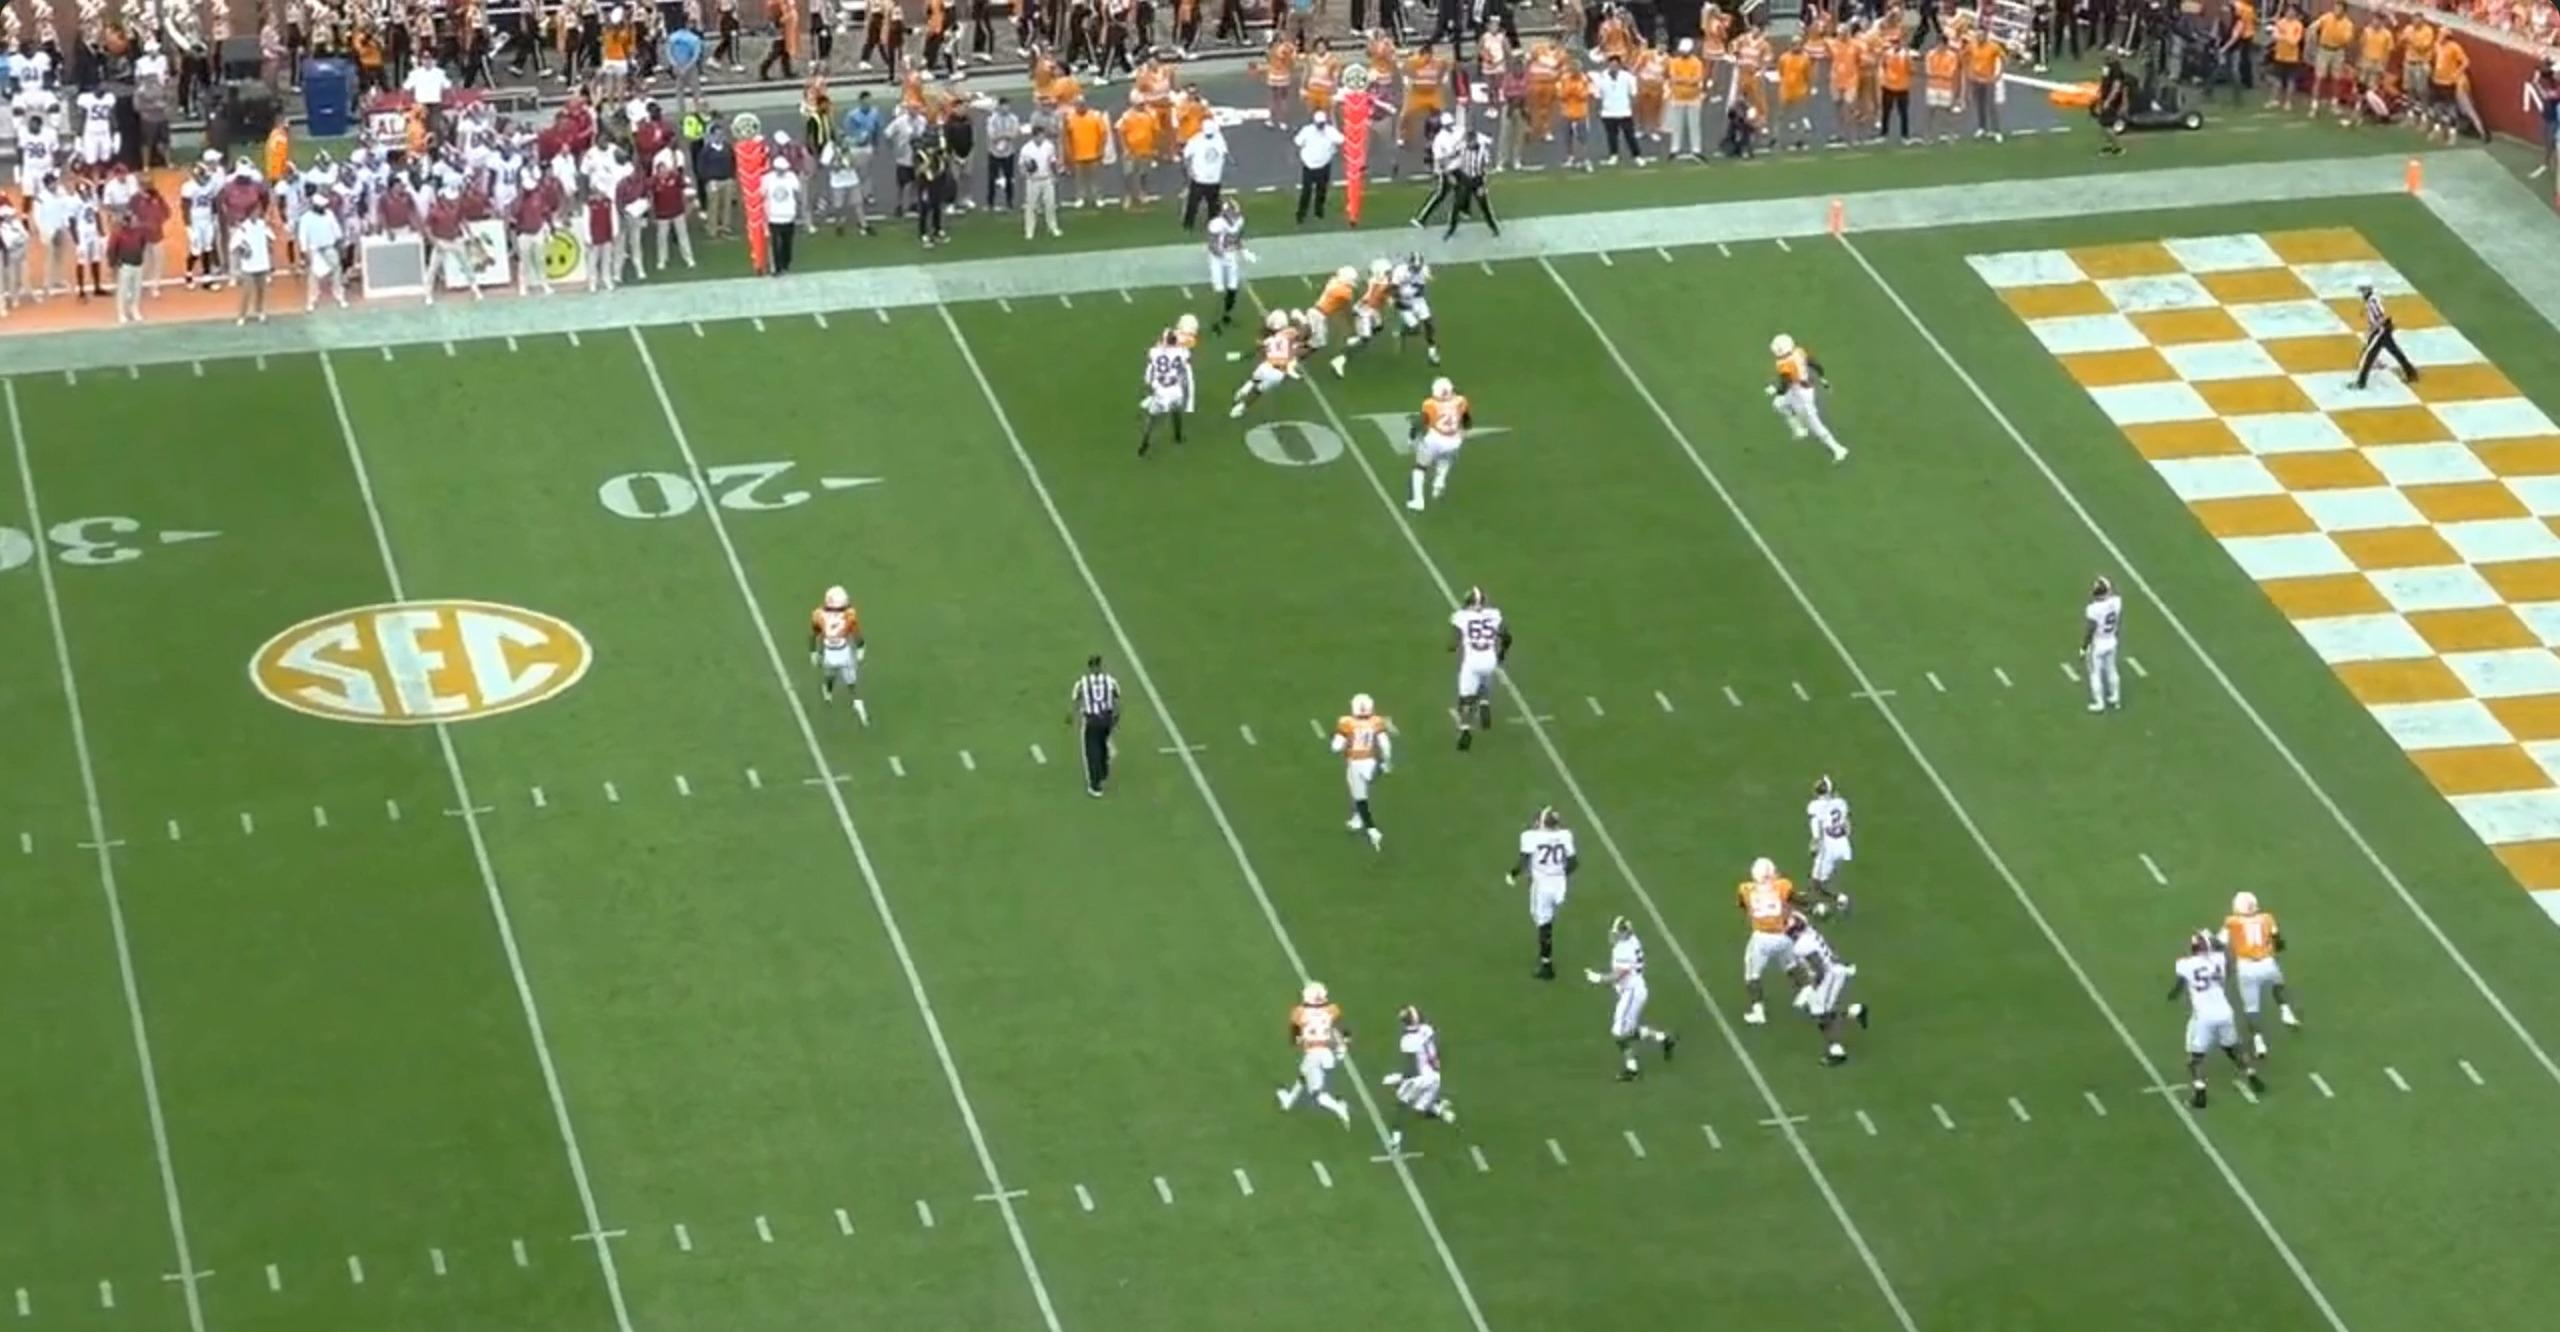defense: (1724, 855, 1807, 1032), (1763, 328, 1861, 471), (2221, 890, 2306, 1051), (1268, 983, 1356, 1134), (1321, 689, 1390, 858), (1234, 311, 1326, 427), (801, 586, 872, 731), (1400, 372, 1471, 516), (1329, 254, 1399, 384), (1292, 264, 1358, 381), (1161, 306, 1204, 357)
oline: (2166, 931, 2279, 1117), (1583, 912, 1685, 1080), (1492, 802, 1580, 987), (1769, 916, 1864, 1076), (1434, 584, 1514, 755)
qb: (2067, 572, 2130, 719)
ref: (2333, 274, 2428, 394), (1073, 655, 1136, 809), (1424, 125, 1497, 249)
skill: (1385, 1002, 1471, 1158), (1129, 332, 1204, 471), (1790, 779, 1856, 927), (1378, 250, 1443, 367), (1204, 203, 1258, 340)
